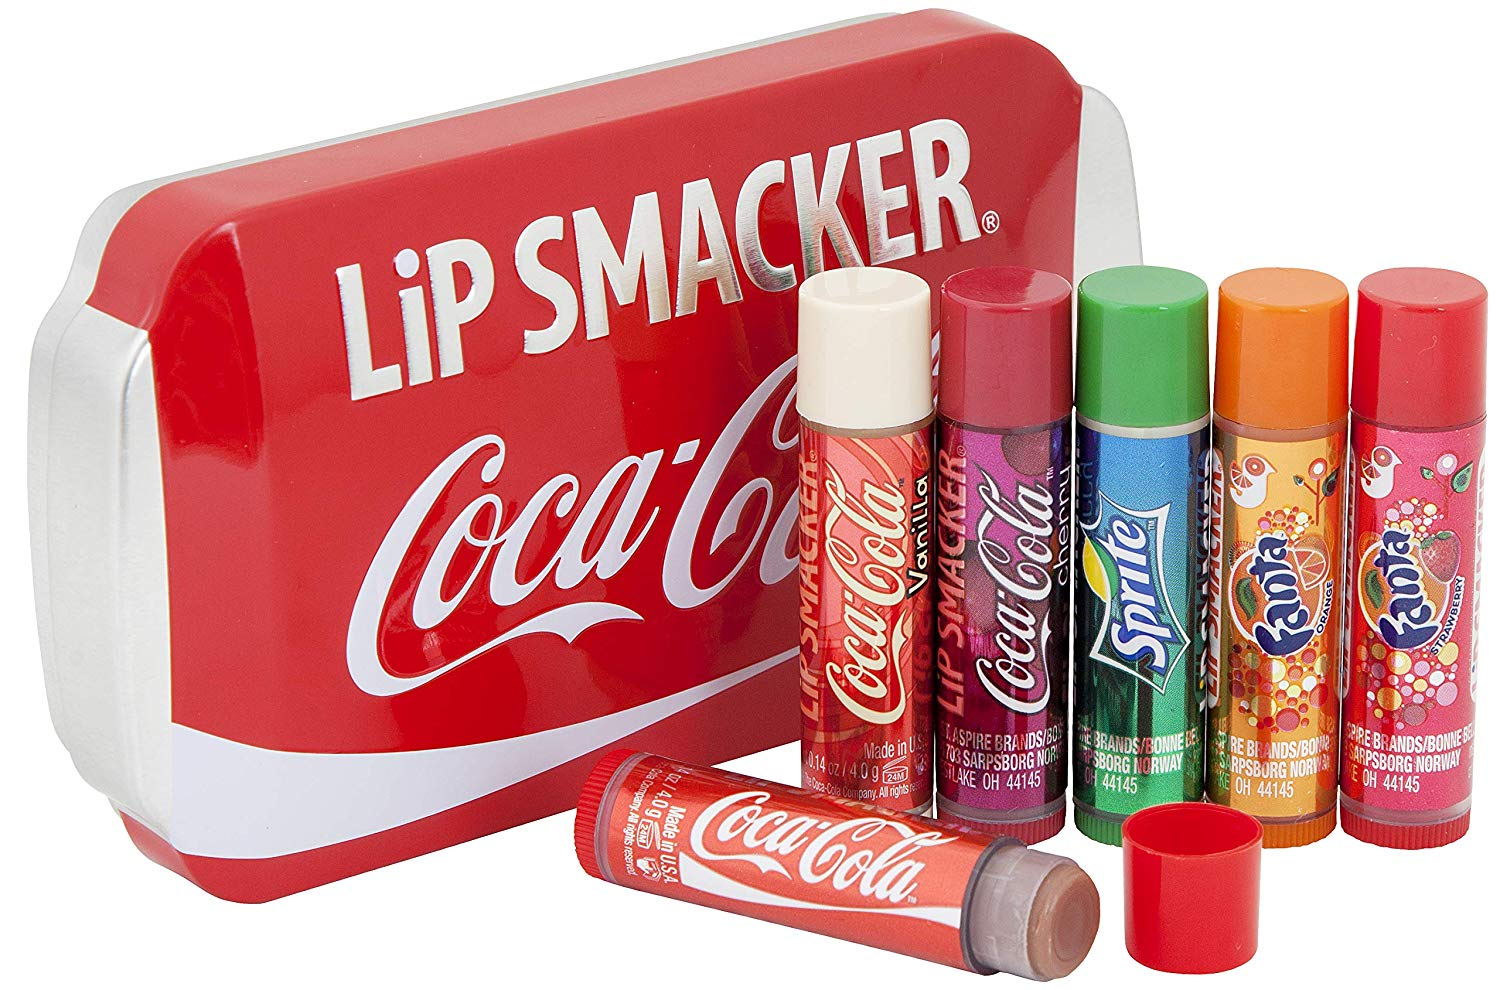sprite: (1096, 517, 1177, 667), (1096, 517, 1176, 667)
